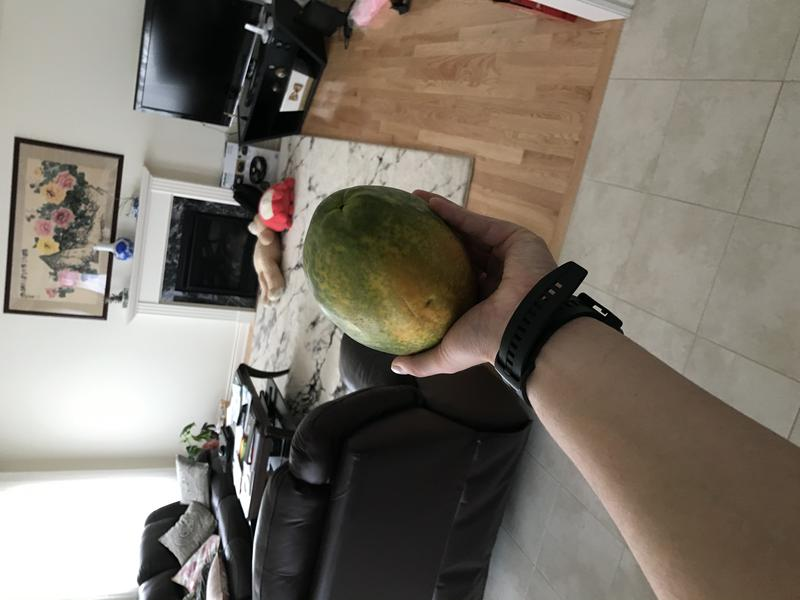papaya: (293, 177, 486, 365)
